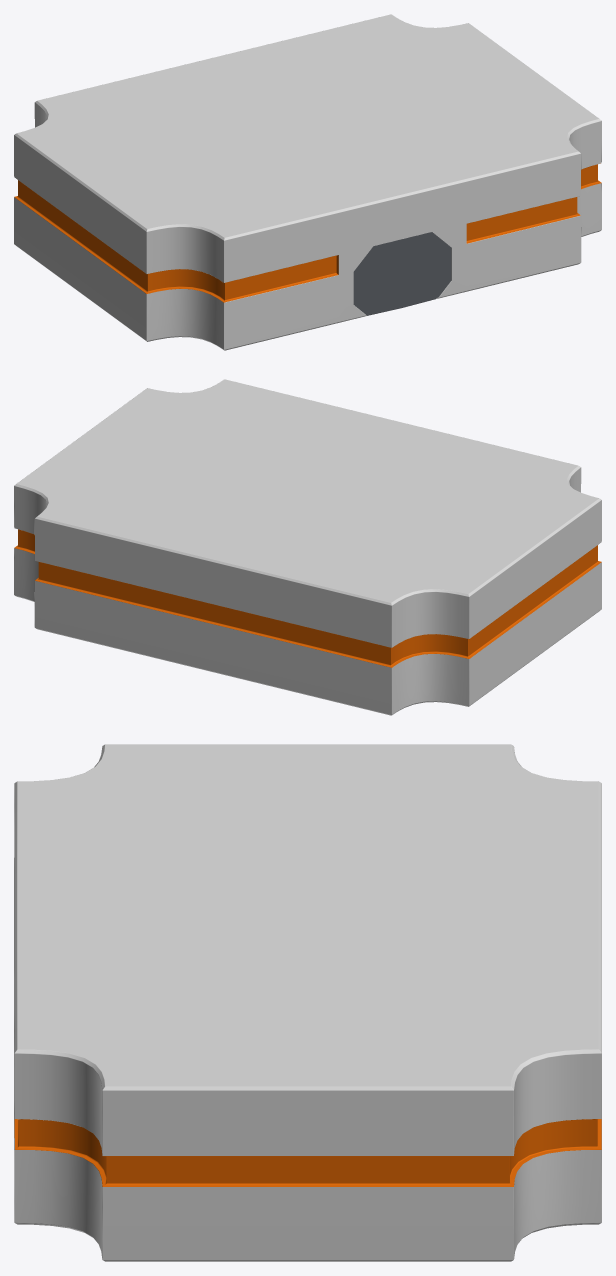
Rendered from Room.fbx.
3 renders of one model, top to bottom at view 1: azimuth 30°, elevation 25°; view 2: azimuth 150°, elevation 25°; view 3: azimuth 270°, elevation 25°, orthographic. The views are drawn at different scales.
Parts seen in each view (by area): view 1: Room_02.001; view 2: Room_02.001; view 3: Room_02.001.
Boxes of the visible parts, x1=… form: Room_02.001: x1=14, y1=14, x2=601, y2=350; Room_02.001: x1=14, y1=379, x2=601, y2=715; Room_02.001: x1=14, y1=744, x2=601, y2=1261.
Size of the model in its own units: 2787 by 661 by 2009.
